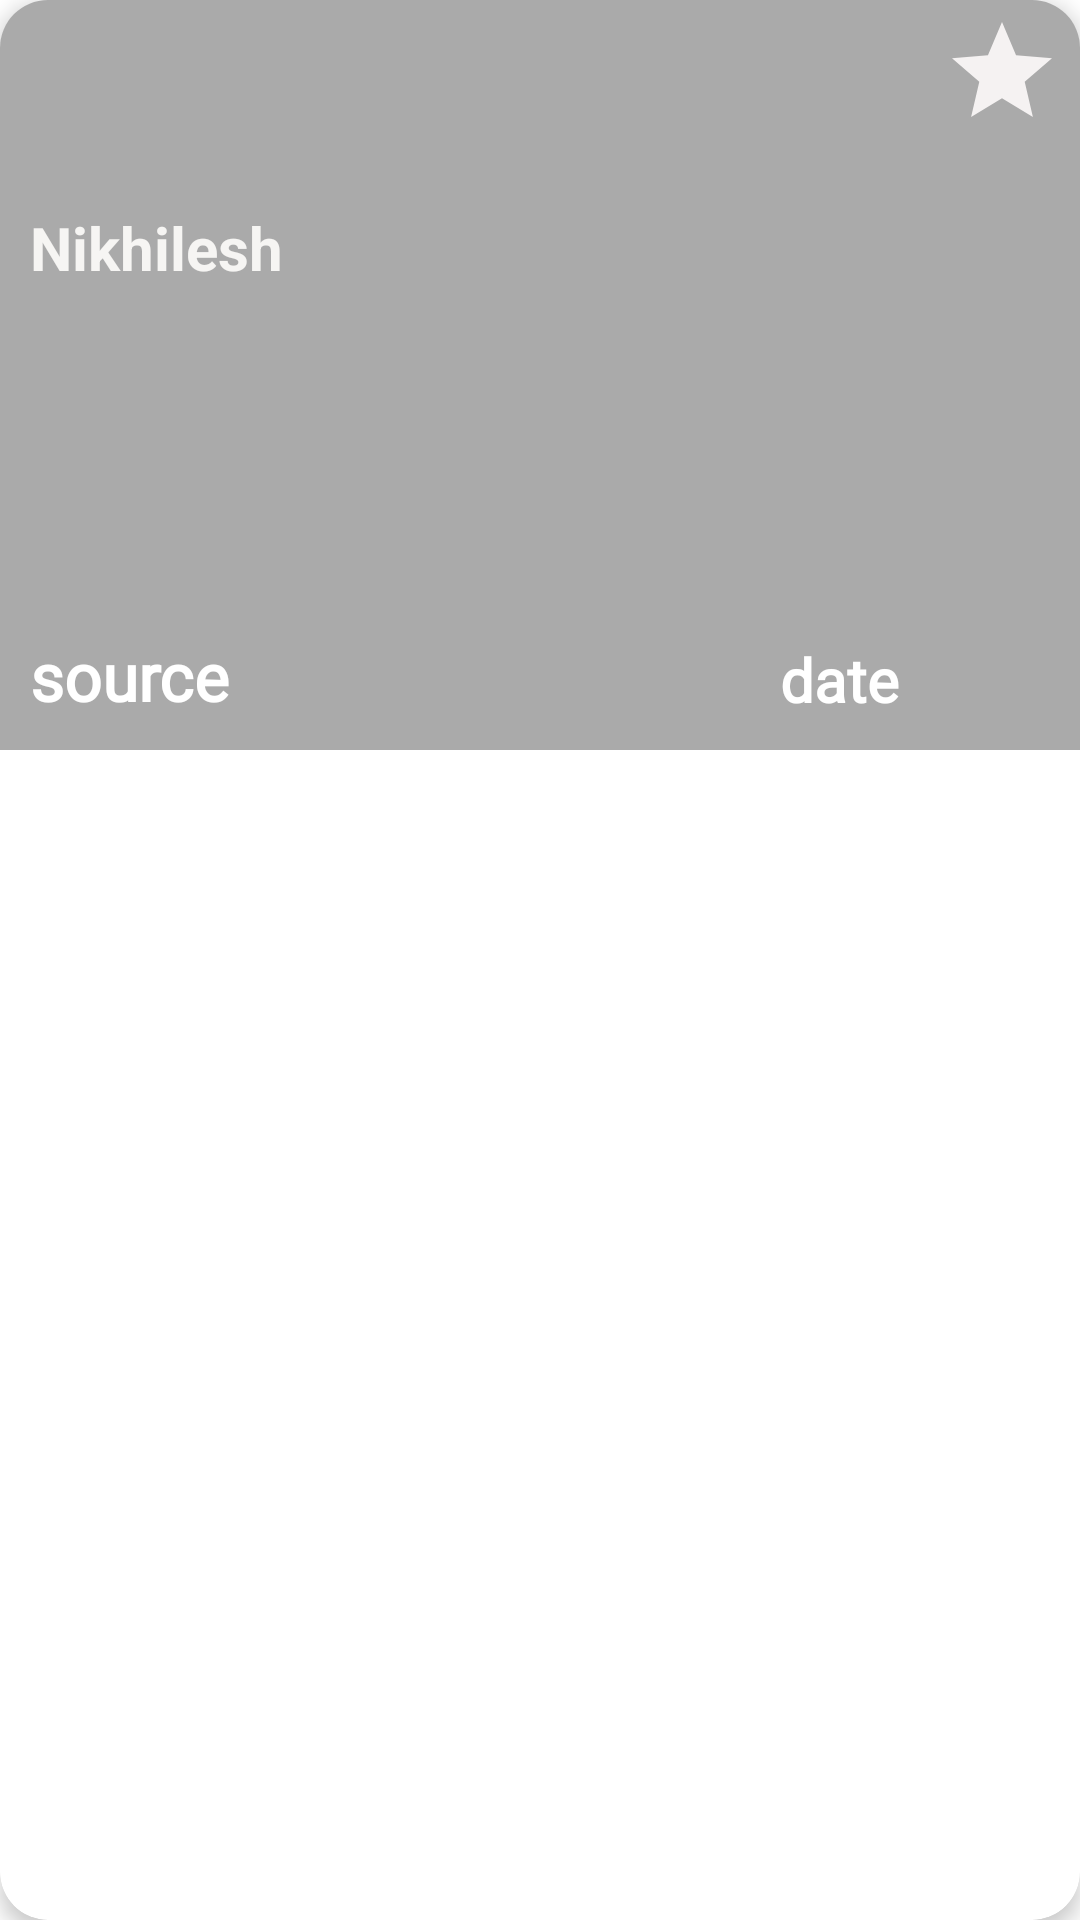

Icon click points for this 1080×1920 phone screenshot, format point (x, y):
star: point (1002, 70)
